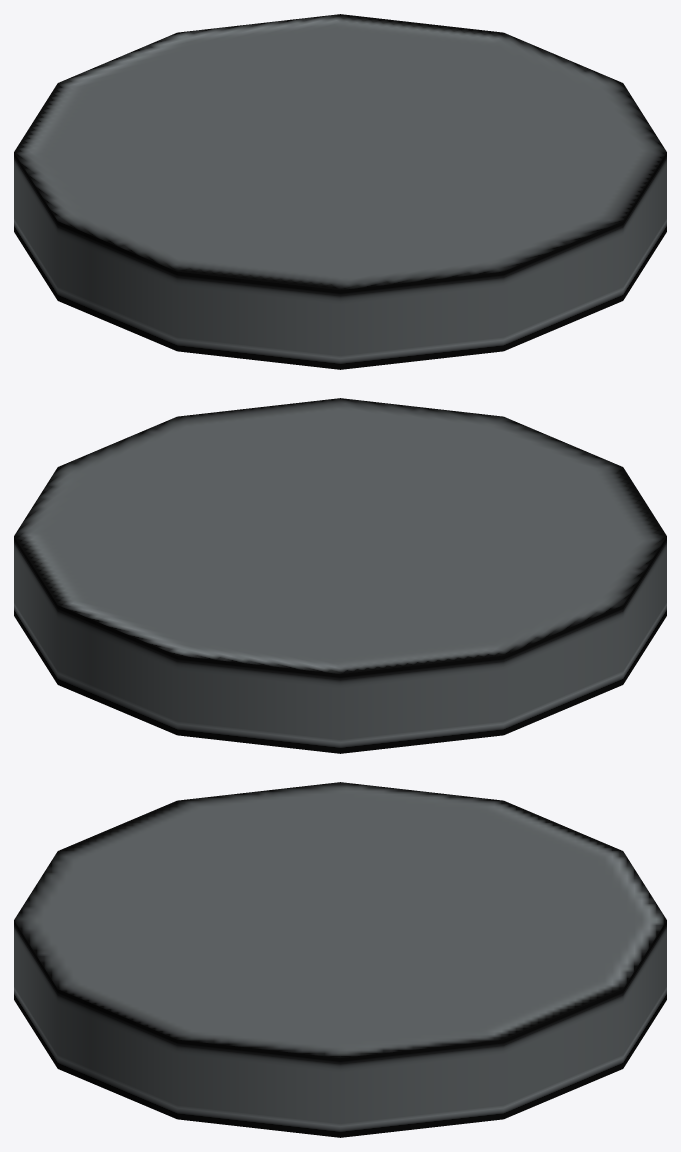
The model's file is Disc01.fbx.
The picture shows the model from 3 angles, top to bottom: view 1: azimuth 30°, elevation 25°; view 2: azimuth 150°, elevation 25°; view 3: azimuth 270°, elevation 25°; orthographic projection.
Parts seen in each view (by area): view 1: polySurface437; view 2: polySurface437; view 3: polySurface437.
Part boxes in pixels (bbox=[...]): polySurface437: bbox=[14, 14, 666, 369]; polySurface437: bbox=[14, 398, 666, 753]; polySurface437: bbox=[14, 782, 666, 1137].
Bounding box in the file's own units: 0.1667 × 0.0225 × 0.1667.
Materials: 1 (1 with a texture image).
